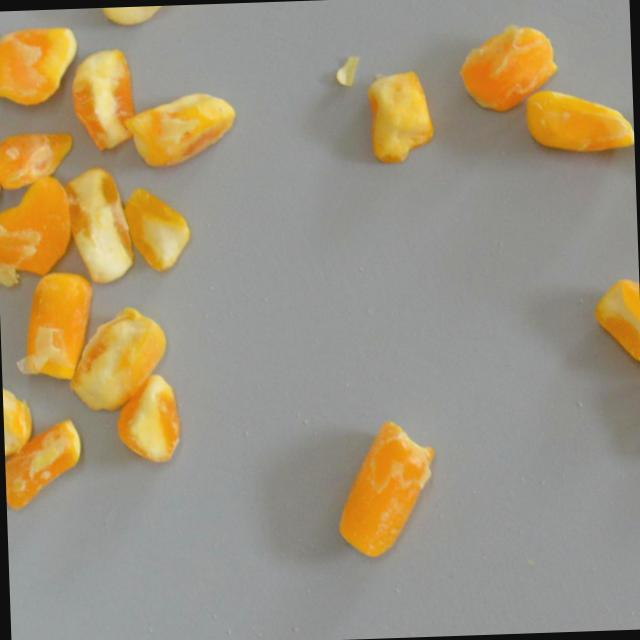no_desgerminado: (366, 69, 436, 165)
pelicula: (329, 418, 439, 564), (64, 304, 169, 411), (456, 20, 562, 113), (121, 91, 237, 171), (12, 269, 89, 383), (63, 165, 132, 284), (0, 175, 74, 285), (523, 84, 634, 157), (3, 417, 83, 510), (68, 46, 137, 152), (0, 22, 77, 107), (111, 372, 181, 463), (122, 185, 190, 271), (592, 276, 640, 372), (0, 131, 73, 188), (2, 380, 36, 457), (96, 4, 188, 29)
